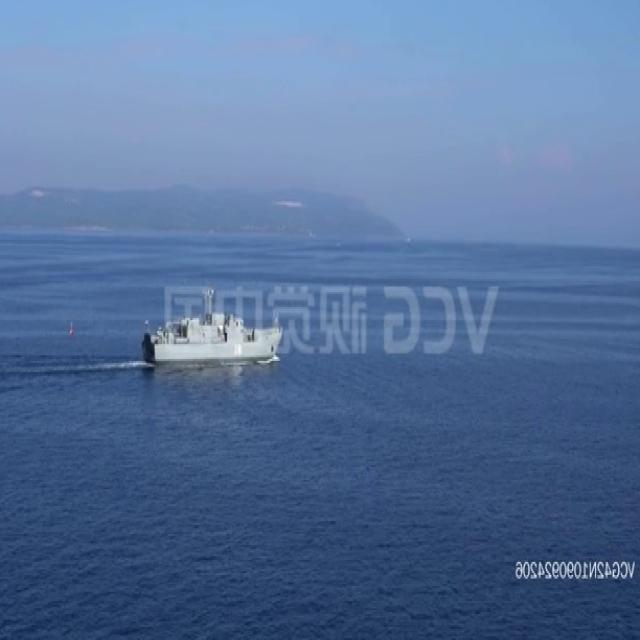navalvessels: (144, 282, 290, 365)
